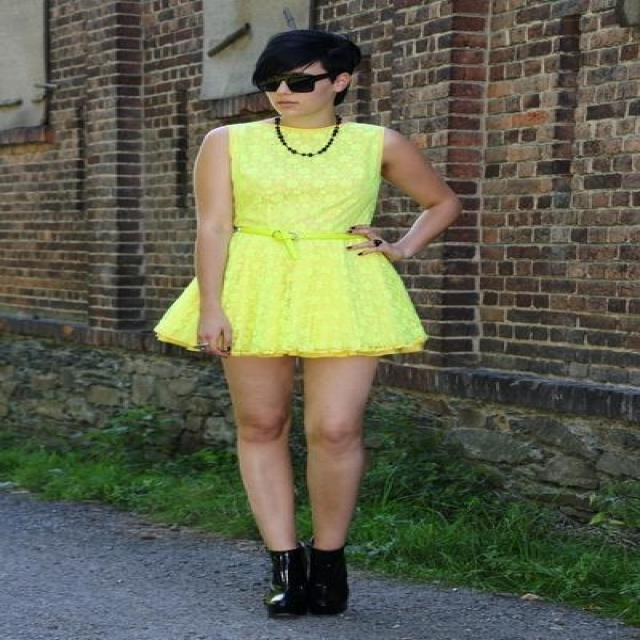dress: (154, 118, 434, 356)
shoe: (264, 542, 349, 619)
sunglass: (253, 54, 299, 88)
